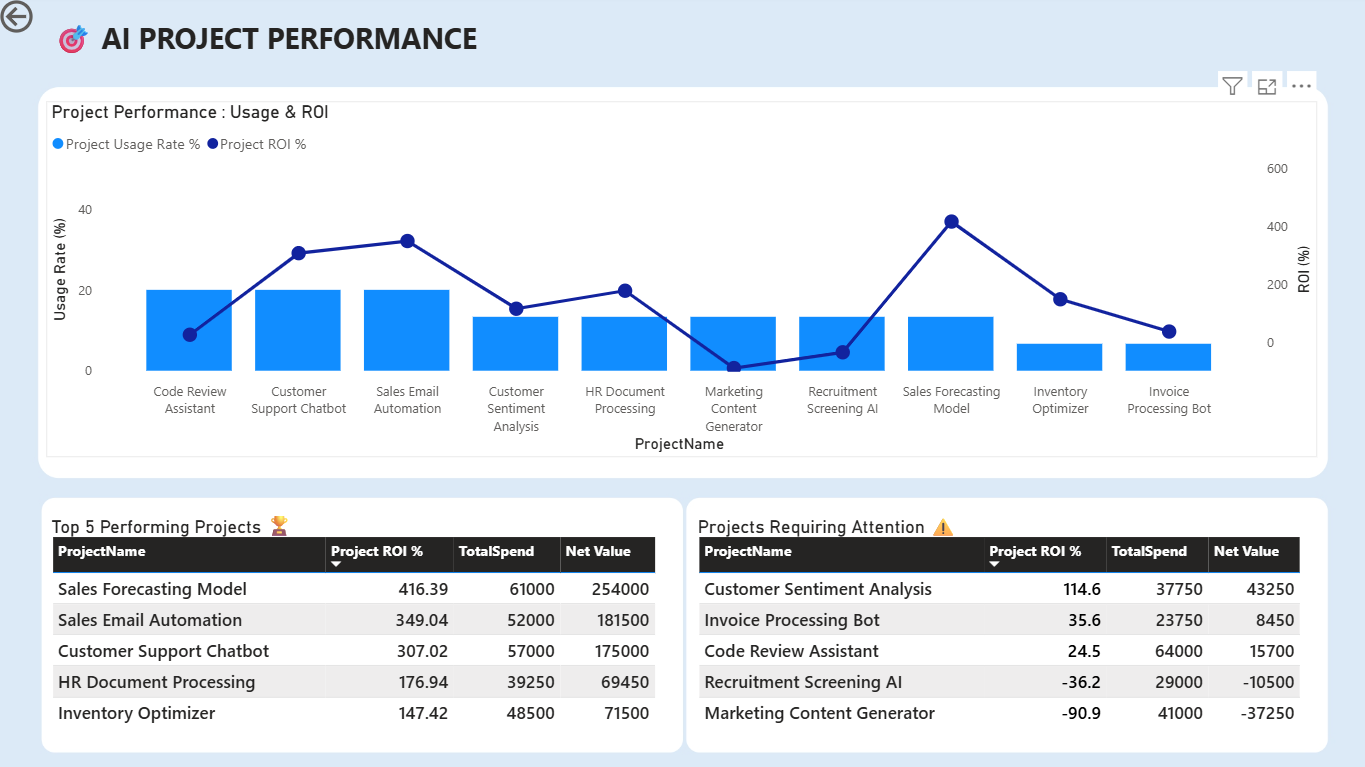

This screenshot's page, from the dashboard's own definition file:
{"tool":"powerbi","page":{"name":"Page 2","canvas":[1280,720],"ordinal":1},"visuals":[{"type":"actionButton","box":[0,0,100,40],"z":0},{"type":"lineClusteredColumnComboChart","title":"Project Performance : Usage & ROI","fields":{"Category":["AI Project.ProjectName"],"Y":["Measure.Project Usage Rate %"],"Y2":["Measure.Project ROI %"]},"box":[47.7,98.8,1182.6,331.4],"z":1000},{"type":"tableEx","title":"Top 5 Performing Projects 🏆","fields":{"Values":["AI Project.ProjectName","Measure.Project ROI %","Measure.TotalSpend","Measure.Net Value"]},"box":[47.7,480.2,582.6,224.4],"z":1001},{"type":"tableEx","title":"Projects Requiring Attention ⚠️","fields":{"Values":["AI Project.ProjectName","Measure.Project ROI %","Measure.TotalSpend","Measure.Net Value"]},"box":[648.8,480.2,581.4,224.4],"z":1002},{"type":"textbox","box":[50,16.3,581.4,46.5],"z":1003}]}

Visuals, with their boxes in screenshot pixels (x1, y1, x2, y2), scaled from the page's 1280x720 canvas onto the 1365x767 screenshot:
actionButton: (0, 0, 107, 43)
"Project Performance : Usage & ROI" lineClusteredColumnComboChart: (51, 105, 1312, 458)
"Top 5 Performing Projects 🏆" tableEx: (51, 512, 672, 751)
"Projects Requiring Attention ⚠️" tableEx: (692, 512, 1312, 751)
textbox: (53, 17, 673, 67)
